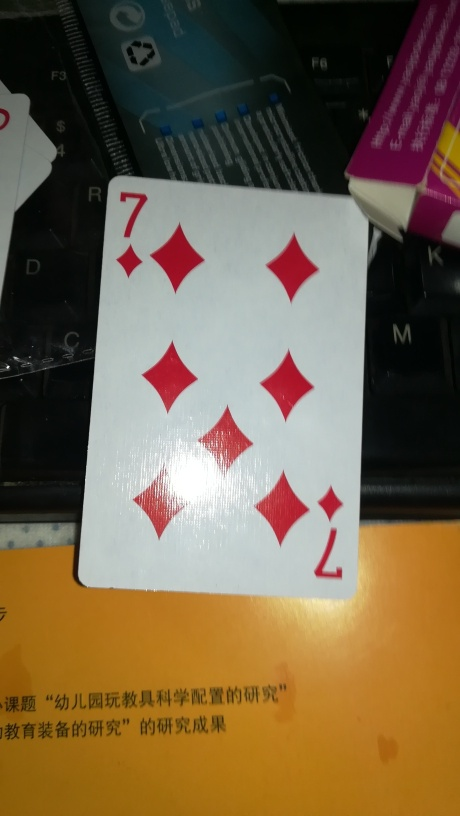fk 7: (76, 173, 363, 596)
